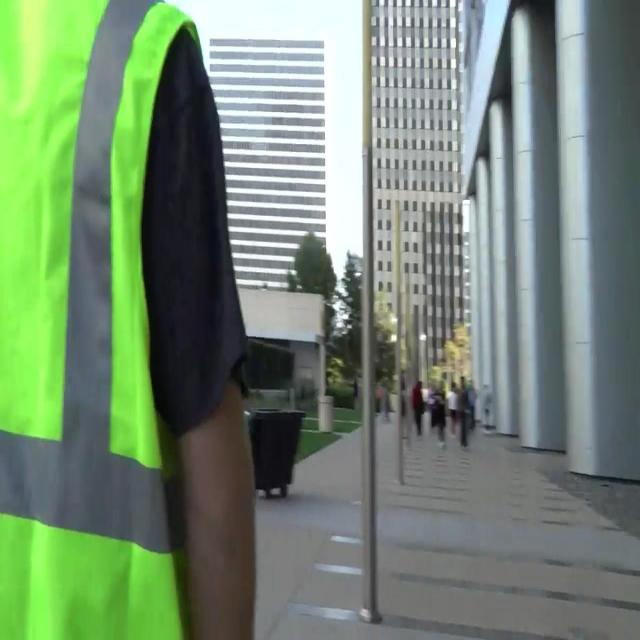Reflective-Jacket: (0, 0, 224, 640)
